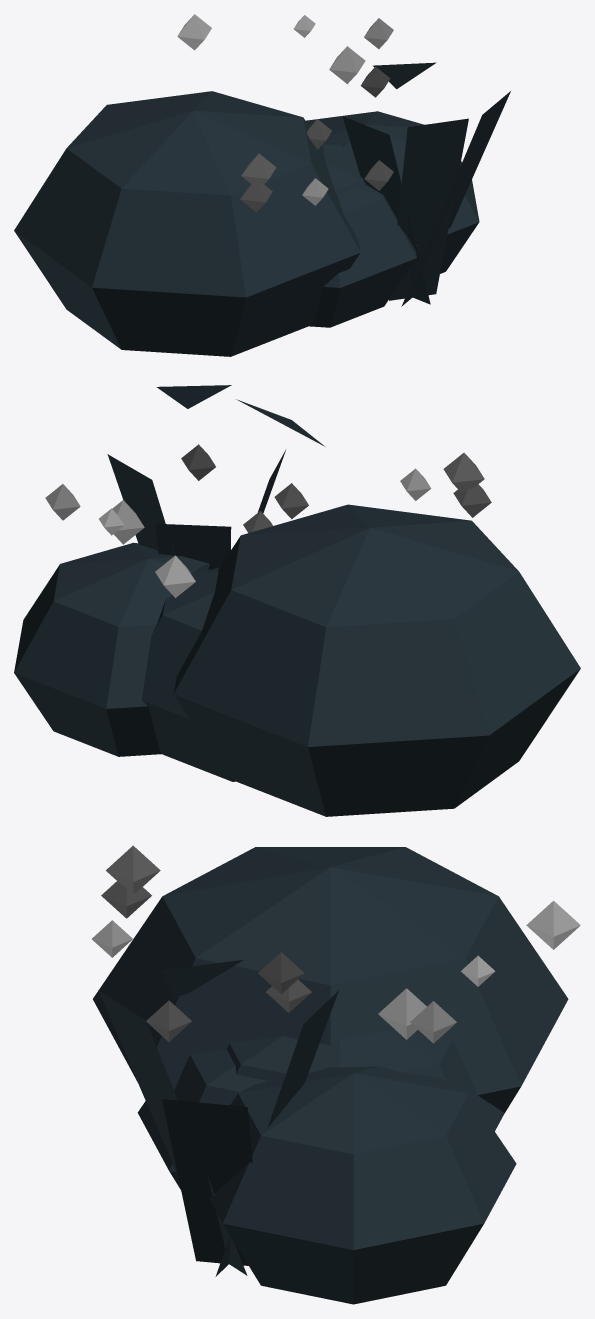
The model's file is shrub_a.glb.
3 views of the same model, one above another, from view 1: azimuth 30°, elevation 25°; view 2: azimuth 150°, elevation 25°; view 3: azimuth 270°, elevation 25° (orthographic). The views are drawn at different scales.
Parts seen in each view (by area): view 1: shrub_a; view 2: shrub_a; view 3: shrub_a.
Part boxes in pixels (left/top/right/bottom): shrub_a: left=14, top=14, right=510, bottom=356; shrub_a: left=14, top=385, right=580, bottom=816; shrub_a: left=92, top=845, right=580, bottom=1304.
Bounding box in the file's own units: 1.51 × 0.7625 × 1.17.
Materials: 2 (1 with a texture image).
